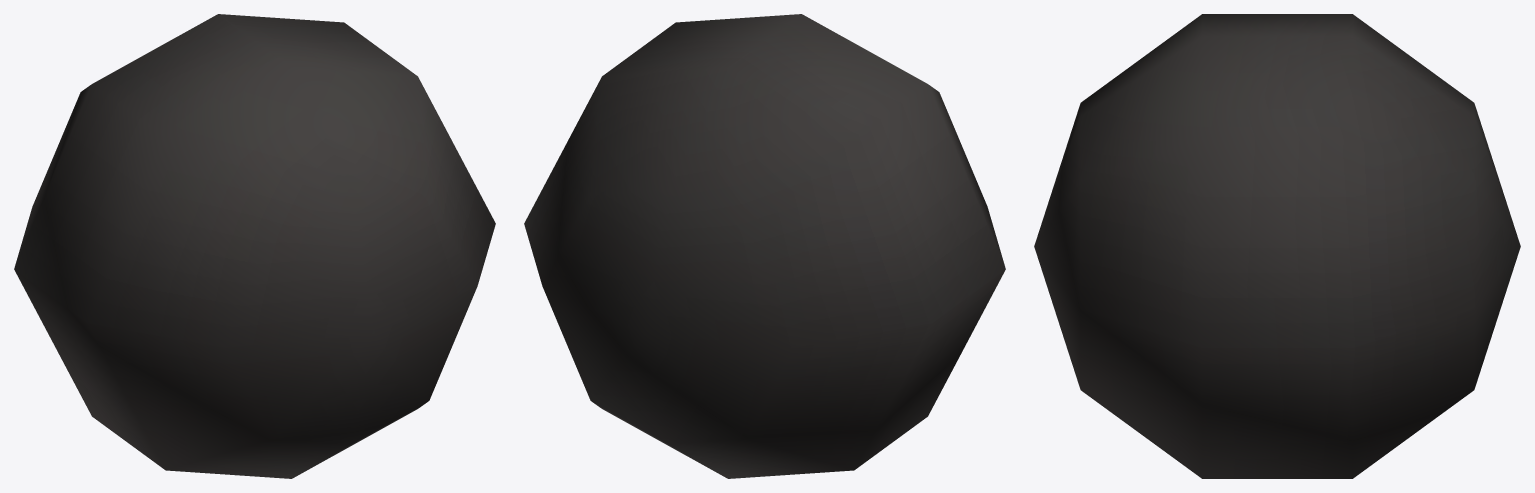
File: paodan.FBX
3 views of the same model, side by side, from view 1: azimuth 30°, elevation 25°; view 2: azimuth 150°, elevation 25°; view 3: azimuth 270°, elevation 25° (orthographic). The views are drawn at different scales.
Parts seen in each view (by area): view 1: Sphere01; view 2: Sphere01; view 3: Sphere01.
Part boxes in pixels (x1,y1,x2,y2): Sphere01: [14, 14, 495, 478]; Sphere01: [524, 14, 1005, 478]; Sphere01: [1034, 14, 1520, 478].
Size of the model in its own units: 45.46 by 46 by 43.75.
